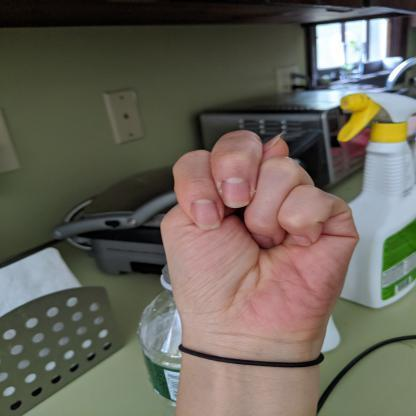N: (156, 125, 364, 345)
